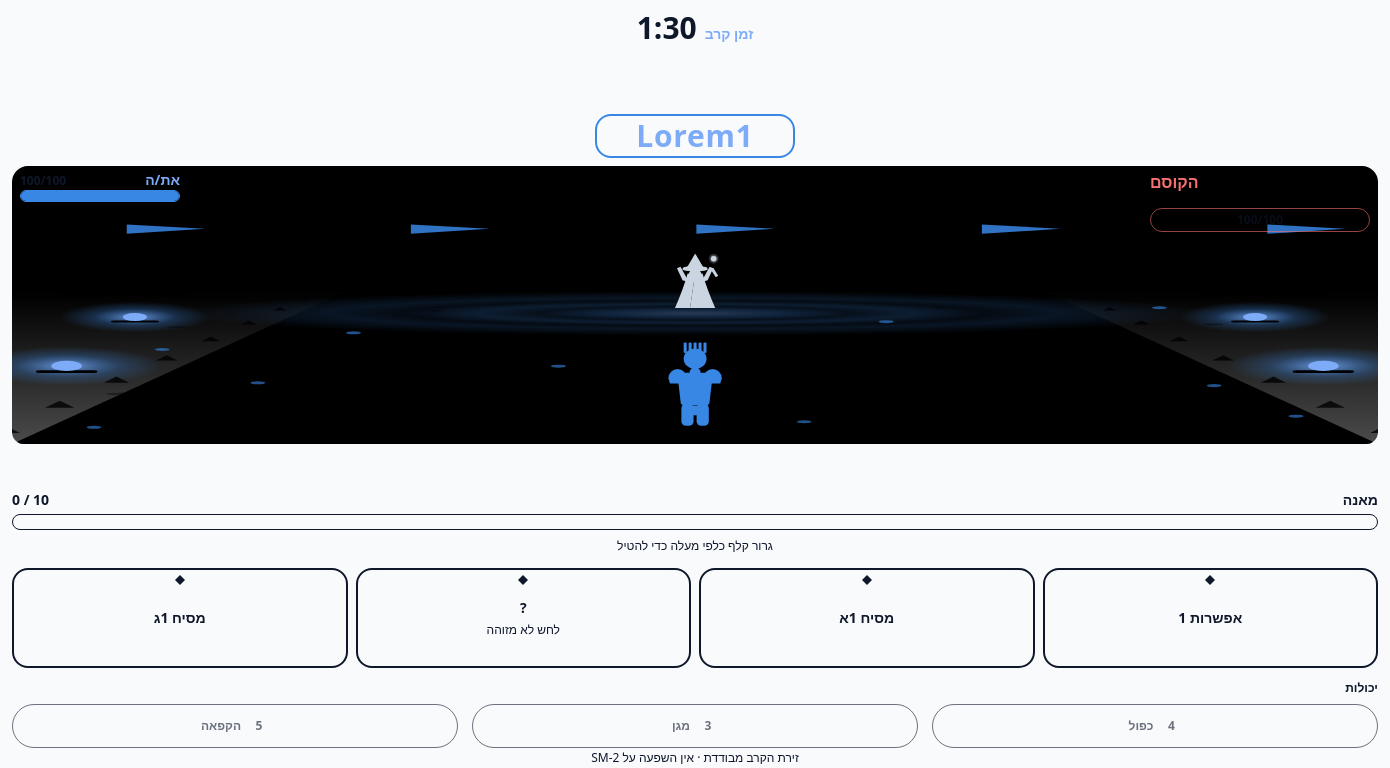
it: T-403 — «בקרב הראשון בלבד»: שער אחד, ⛔ ולא שניים › 🔵 T-425 — הקשה על קלף מחליפה את ההוראה לצעד השני, ⛔ ושתיהן ⛔ לעולם לא יחד
Expected: the text "גרור קלף כלפי מעלה כדי להטיל" is shown, [617, 538, 773, 554]
Expected: the text "היריב" is not shown
Press the mouse on the button "אפשרות 1" at (1210, 618), box [1042, 568, 1378, 668]
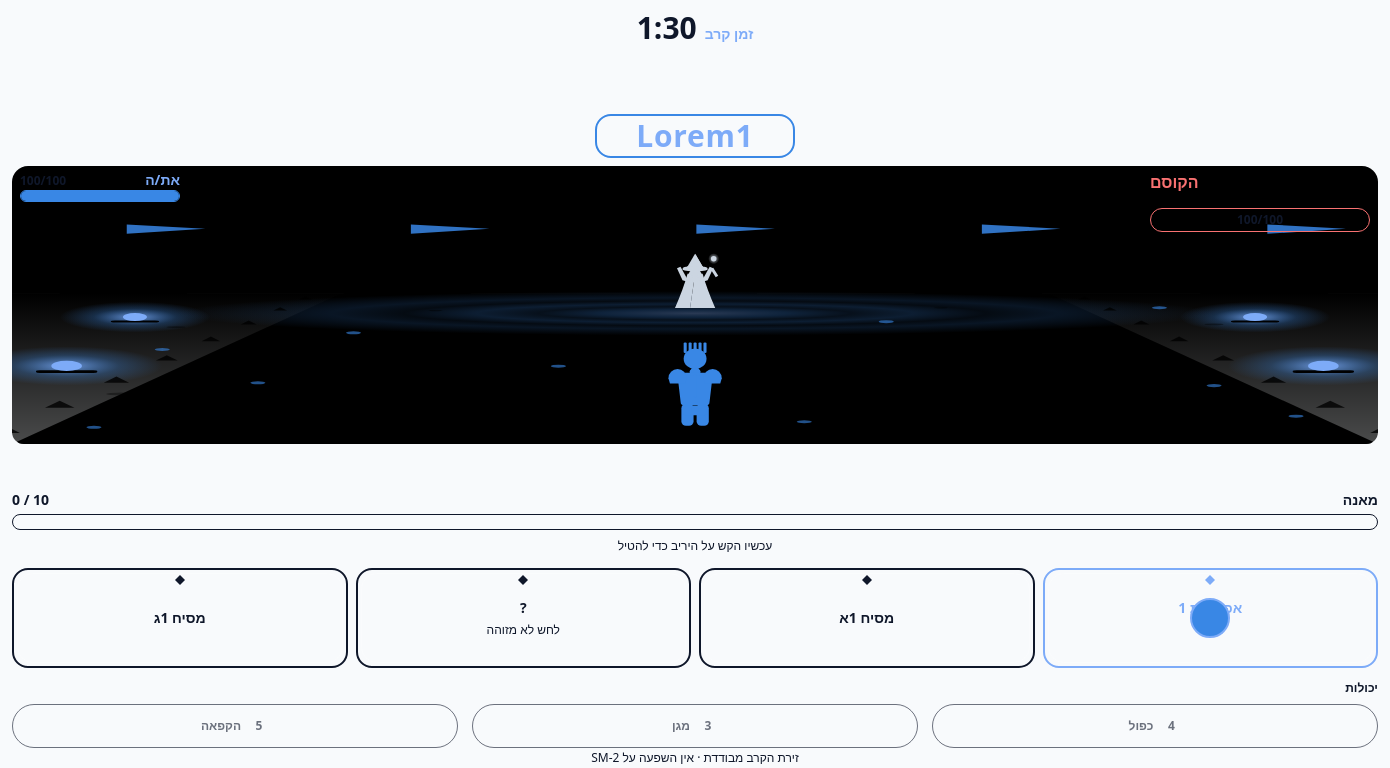
Result: the text "עכשיו הקש על היריב כדי להטיל" is shown at [618, 538, 772, 554]
